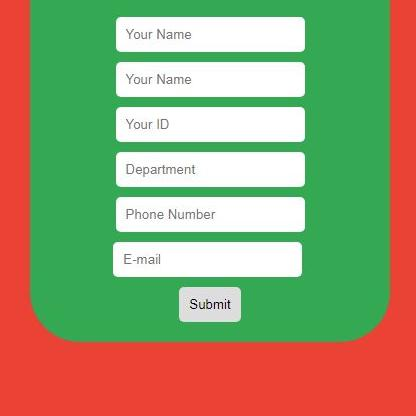button: (176, 285, 243, 323)
field: (113, 150, 307, 189), (111, 240, 304, 279), (113, 16, 307, 54), (114, 61, 306, 99), (114, 106, 307, 143), (114, 196, 307, 233)
